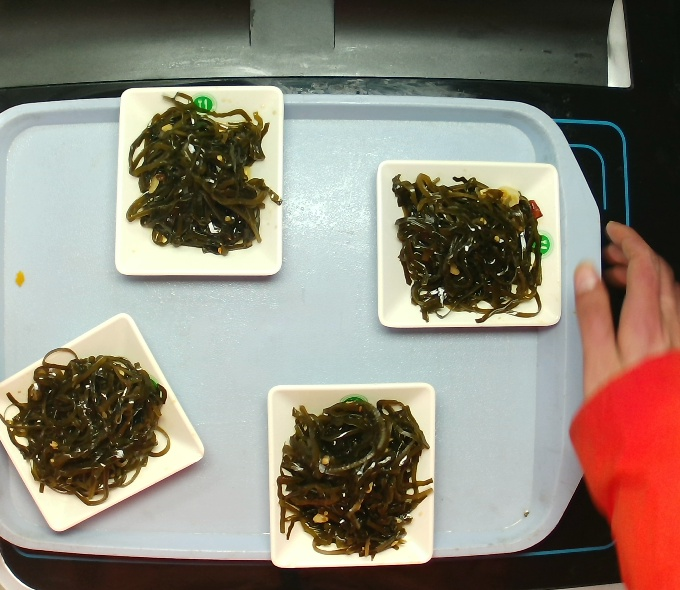wcq-LiangBanHaiDai: (10, 343, 174, 503), (382, 162, 552, 316), (277, 391, 435, 555), (121, 95, 281, 255)
